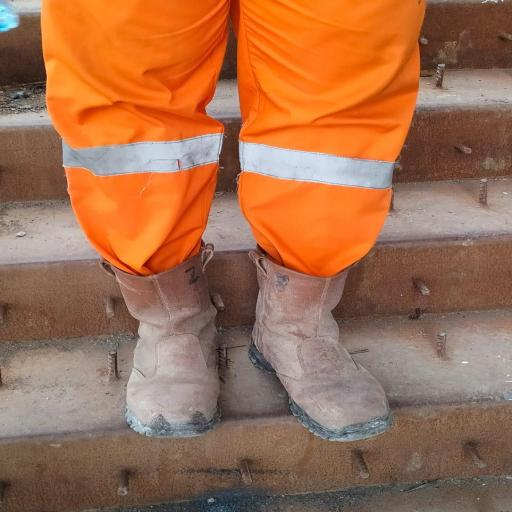safety_shoe: (242, 249, 401, 440), (86, 252, 231, 442)
